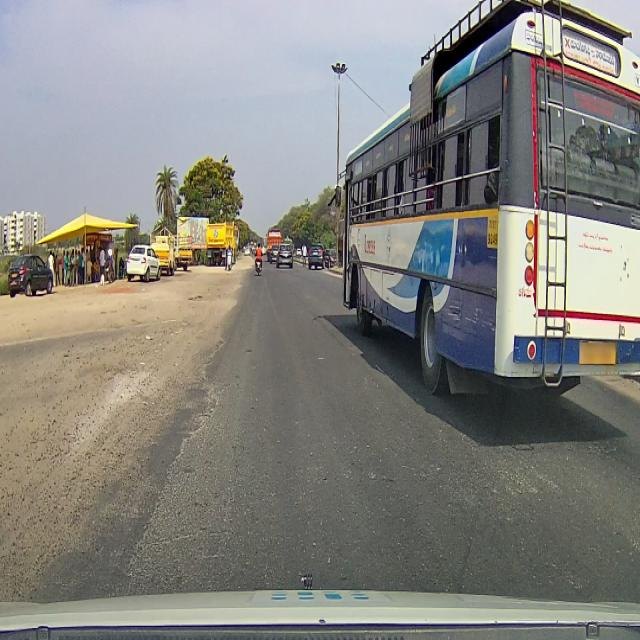bus ahead at: (328, 4, 640, 405)
